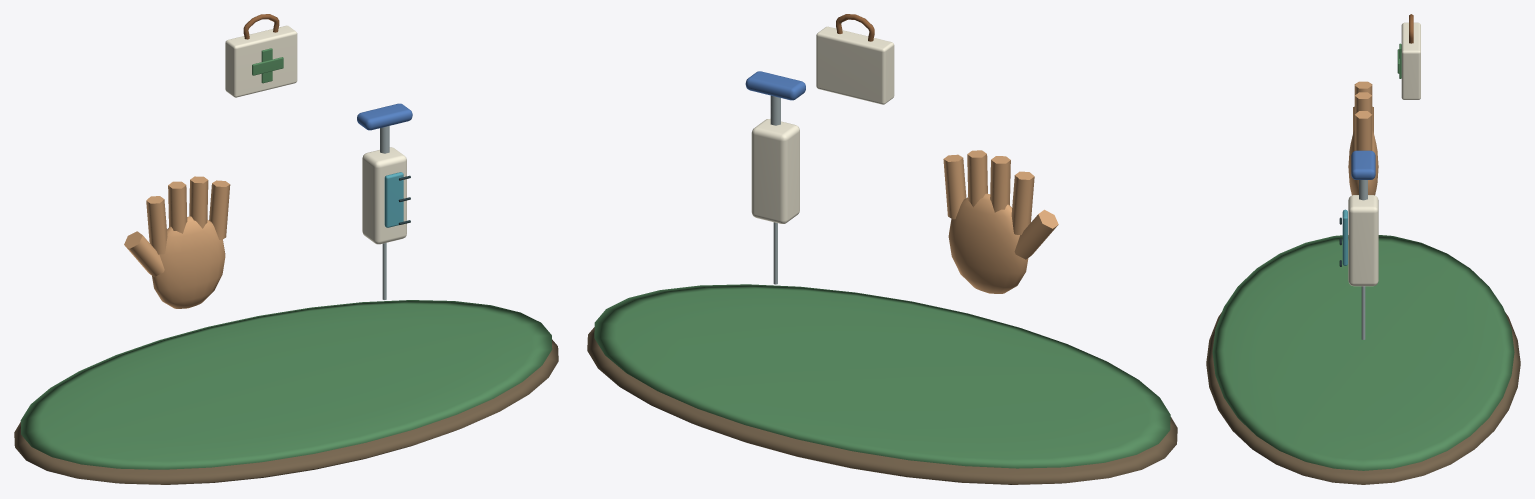
The model's file is complete-third-hand-and-needle.glb.
3 renders of one model, left to right at view 1: azimuth 30°, elevation 25°; view 2: azimuth 150°, elevation 25°; view 3: azimuth 270°, elevation 25°, orthographic. The views are drawn at different scales.
Parts seen in each view (by area): view 1: complete-third-hand-and-needle_surface_01, complete-third-hand-and-needle_surface_02, complete-third-hand-and-needle_surface_00, complete-third-hand-and-needle_surface_03, complete-third-hand-and-needle_surface_04, complete-third-hand-and-needle_surface_06; view 2: complete-third-hand-and-needle_surface_01, complete-third-hand-and-needle_surface_02, complete-third-hand-and-needle_surface_00, complete-third-hand-and-needle_surface_03, complete-third-hand-and-needle_surface_06, complete-third-hand-and-needle_surface_05; view 3: complete-third-hand-and-needle_surface_01, complete-third-hand-and-needle_surface_00, complete-third-hand-and-needle_surface_03, complete-third-hand-and-needle_surface_02, complete-third-hand-and-needle_surface_06, complete-third-hand-and-needle_surface_05.
Boxes of the visible parts, x1,y1,x2,y2 form: complete-third-hand-and-needle_surface_01: (20, 48, 552, 469); complete-third-hand-and-needle_surface_02: (124, 176, 230, 308); complete-third-hand-and-needle_surface_00: (14, 339, 558, 484); complete-third-hand-and-needle_surface_03: (225, 25, 406, 244); complete-third-hand-and-needle_surface_04: (384, 172, 403, 227); complete-third-hand-and-needle_surface_06: (357, 103, 412, 130); complete-third-hand-and-needle_surface_01: (594, 284, 1170, 468); complete-third-hand-and-needle_surface_02: (943, 150, 1058, 293); complete-third-hand-and-needle_surface_00: (587, 327, 1177, 484); complete-third-hand-and-needle_surface_03: (751, 26, 894, 223); complete-third-hand-and-needle_surface_06: (745, 71, 805, 100); complete-third-hand-and-needle_surface_05: (770, 95, 780, 284); complete-third-hand-and-needle_surface_01: (1212, 43, 1514, 470); complete-third-hand-and-needle_surface_00: (1206, 312, 1520, 484); complete-third-hand-and-needle_surface_03: (1348, 22, 1420, 286); complete-third-hand-and-needle_surface_02: (1348, 81, 1378, 195); complete-third-hand-and-needle_surface_06: (1351, 150, 1375, 179); complete-third-hand-and-needle_surface_05: (1359, 180, 1367, 339).
Size of the model in its own units: 4.56 by 3.18 by 2.5.
